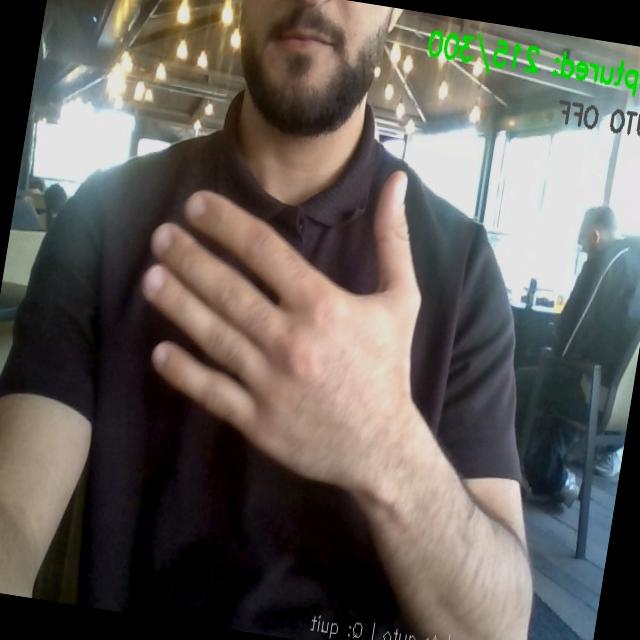Hand: (142, 173, 420, 489)
